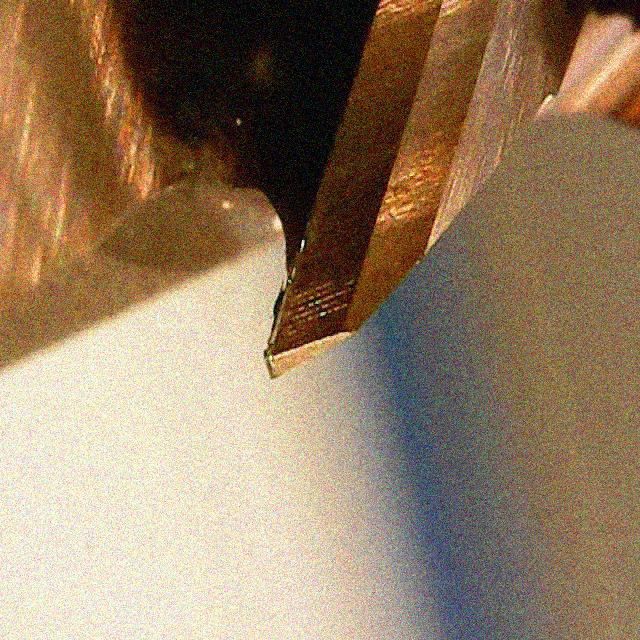Tool-wear-class-1: (249, 168, 416, 393)
